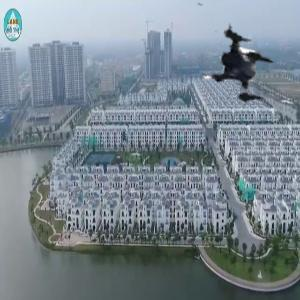drone: (169, 5, 289, 125)
